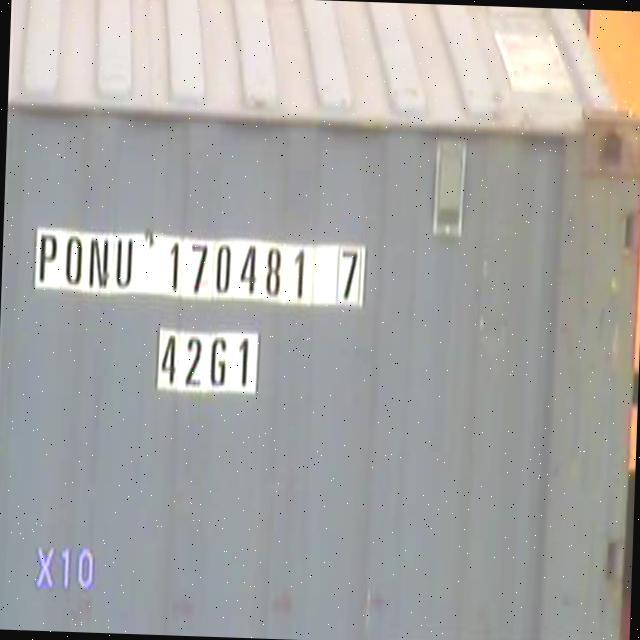le-tle-t-tletters: (33, 217, 370, 321)
